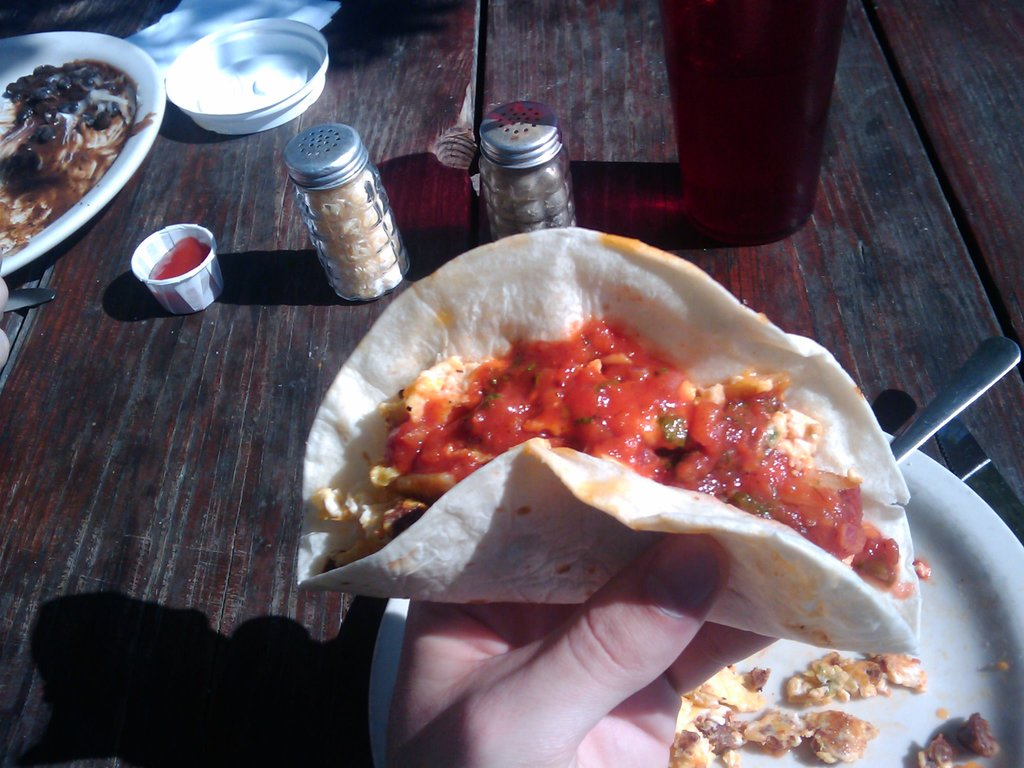Pizza: (332, 233, 878, 603)
